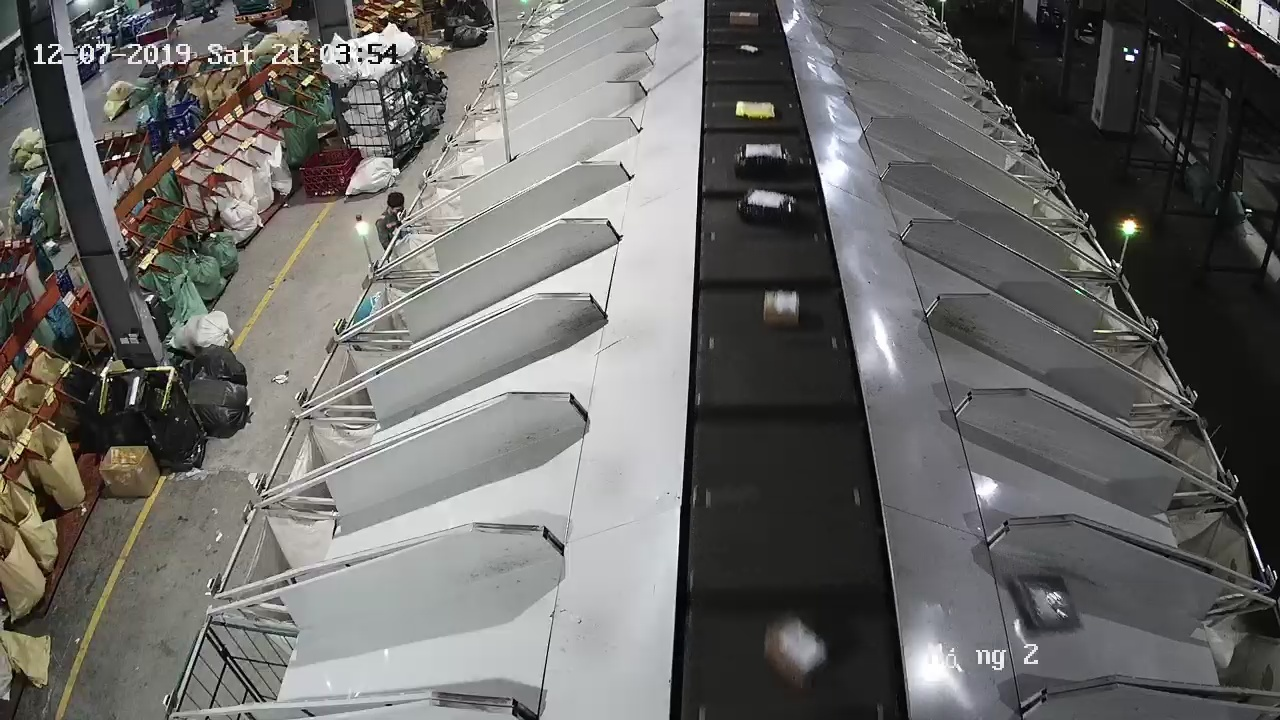parcel: (1006, 573, 1082, 632)
